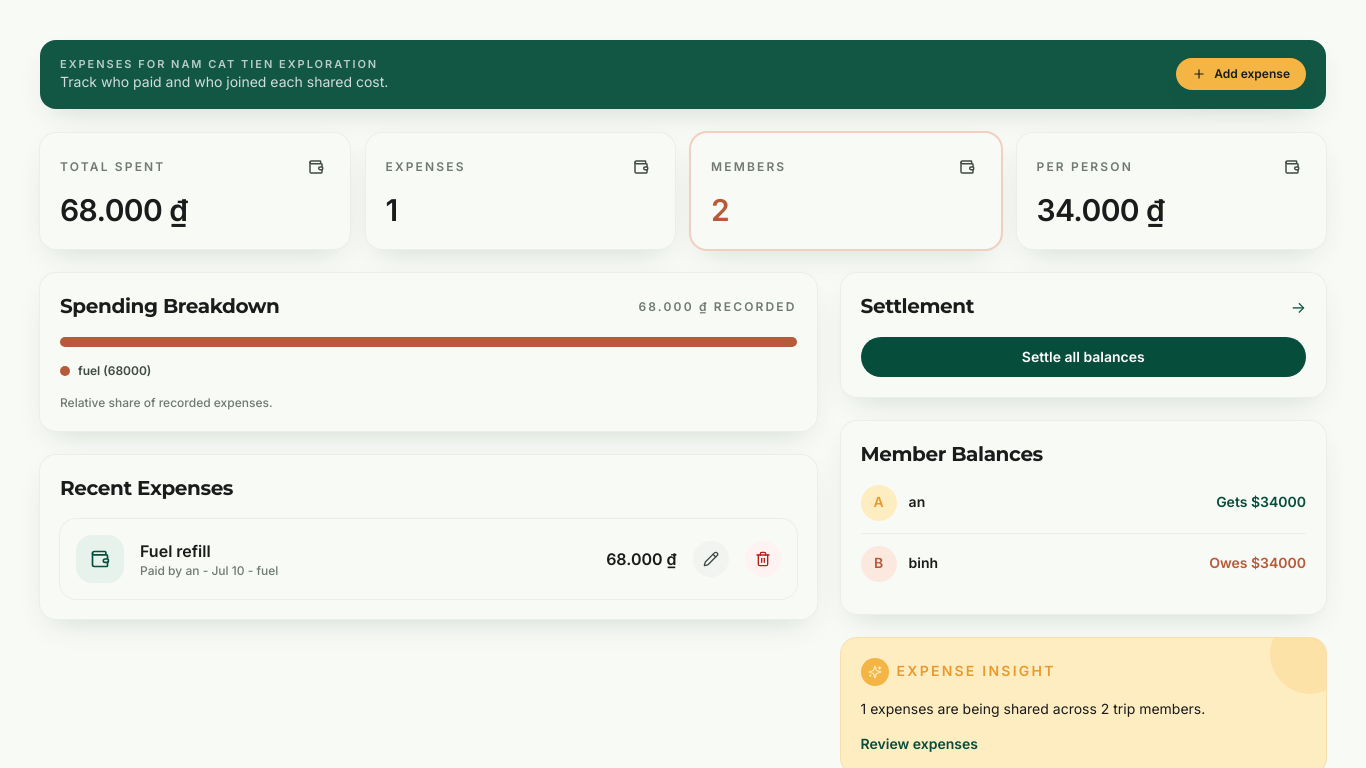
Scenario: ExpensesSurface › opens a real add-expense form with payer and participant controls
Click the button with test id "expenses-add" at (1241, 74), box [1176,58,1306,90]
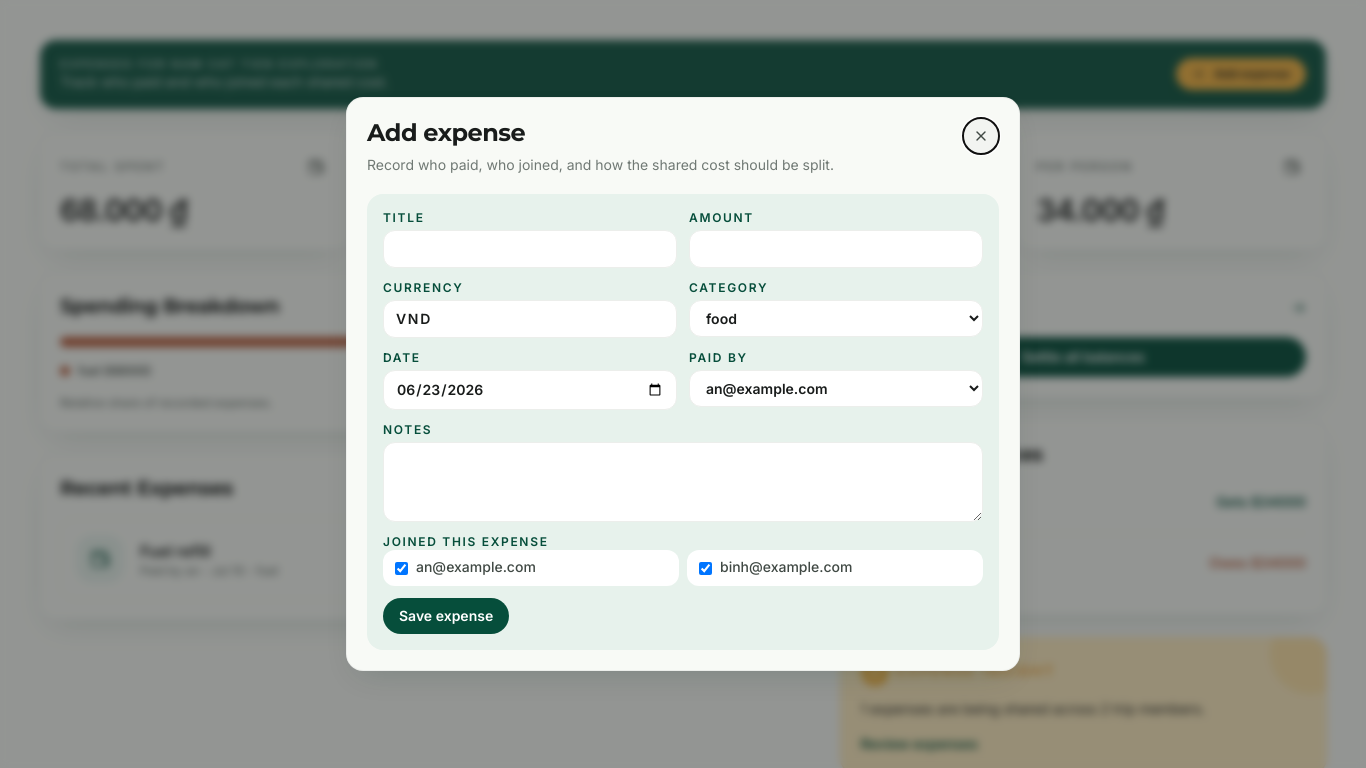
Check: the form with test id "expenses-add-form" is shown, box [367,194,999,650]
Check: the dropdown labelled "Paid by" shows "an@example.com", box [689,370,983,407]
Check: the checkbox labelled "an@example.com" is checked, box [395,562,408,574]
